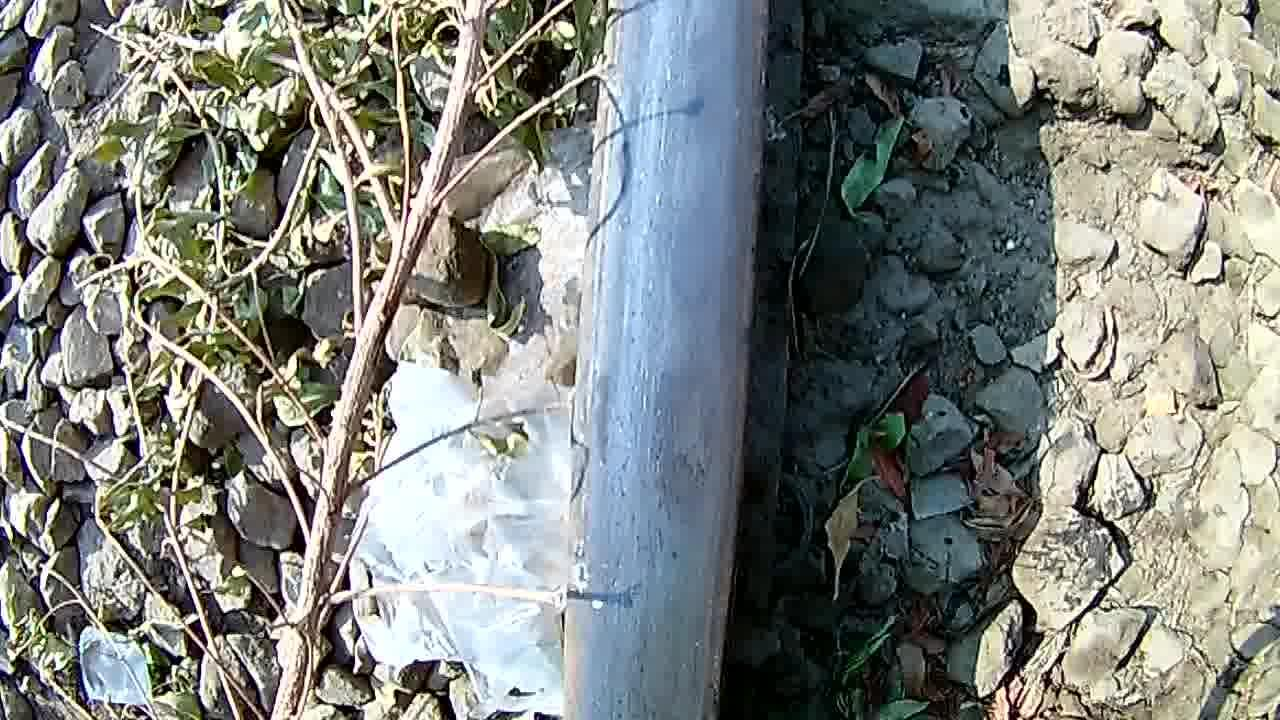bolt_missing: (622, 304, 758, 556)
